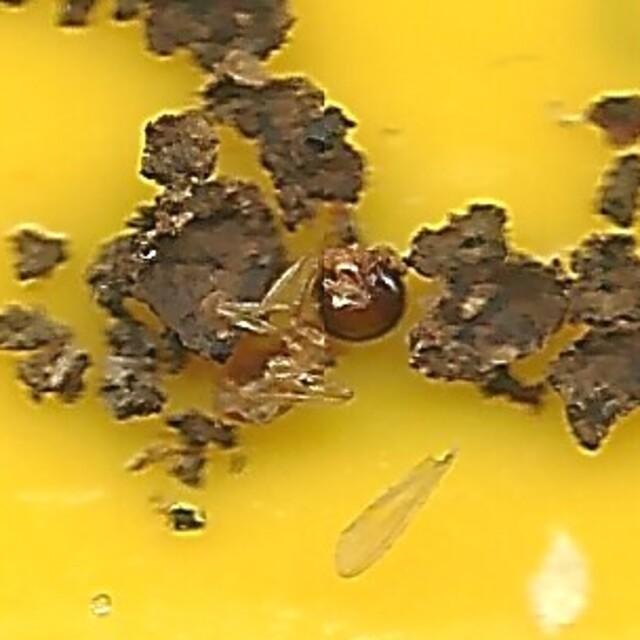Isoptera: (211, 208, 429, 432)
